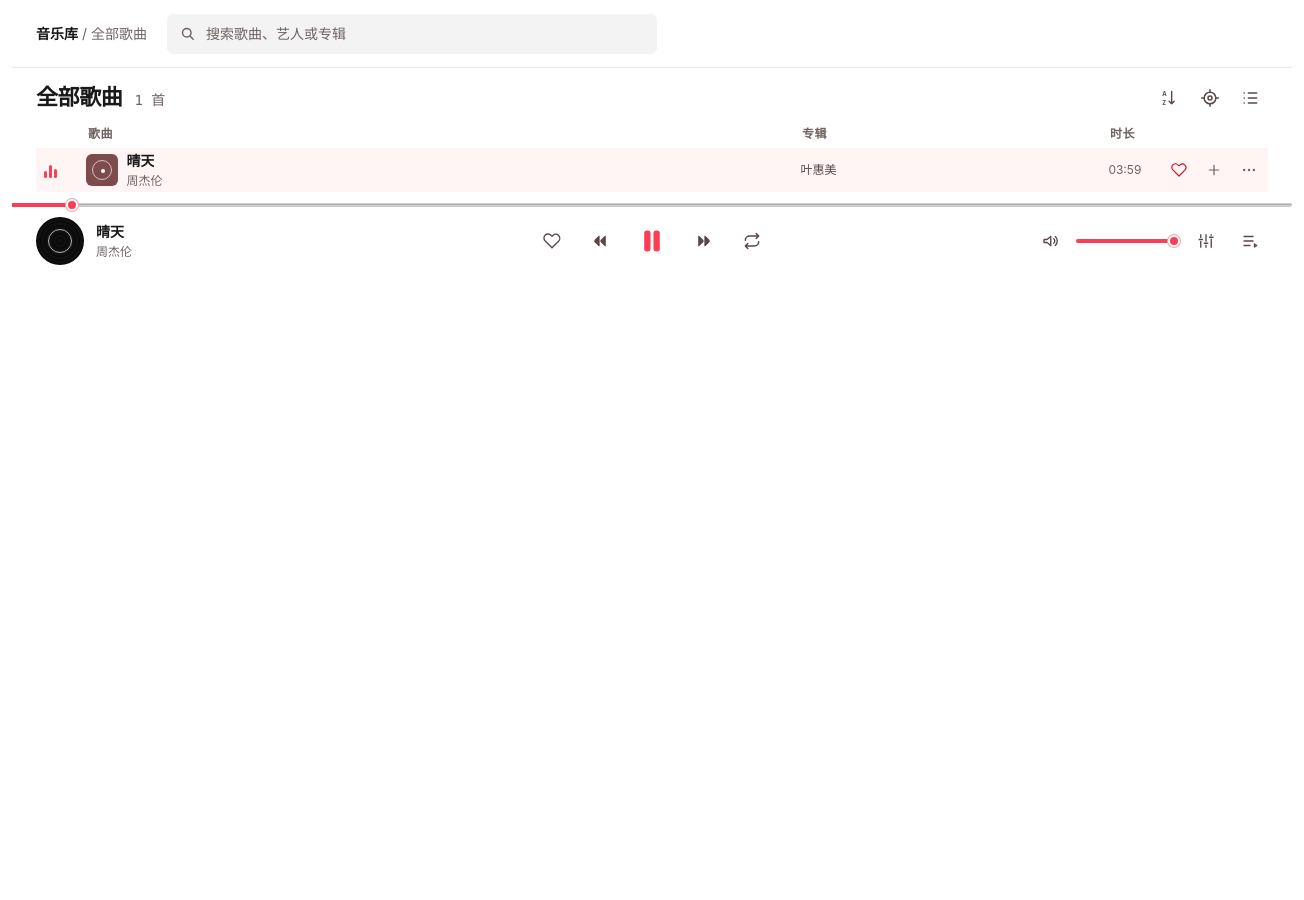
Test: 已保存待更新 keeps the committed like on screen › does not roll the row heart back when only the projection failed
Click the button named "喜欢晴天": click(1179, 170) [1166, 156, 1193, 184]
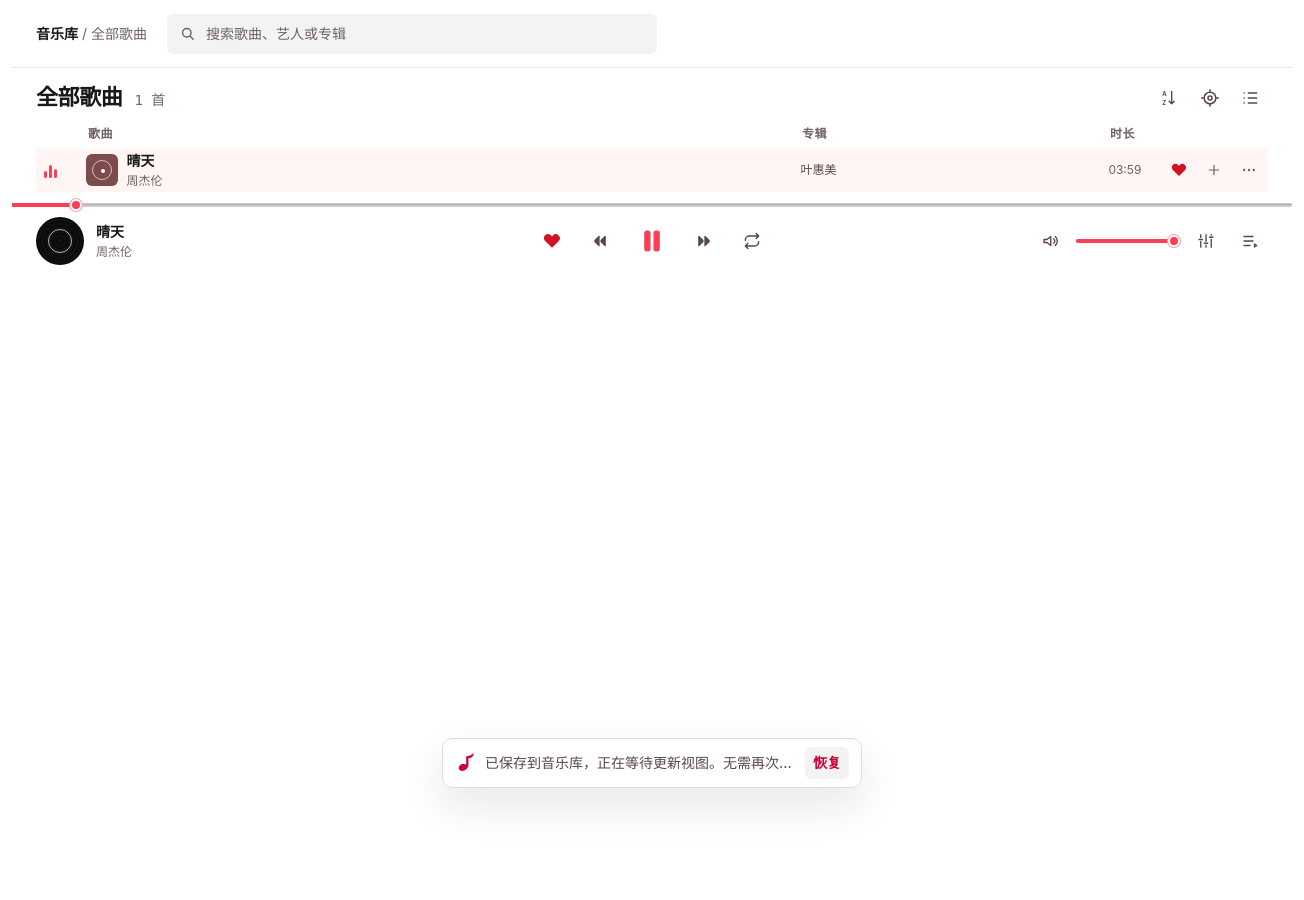
Expected: the message with test id "toast" shows "已保存到音乐库，正在等待更新视图", [485, 754, 877, 771]
